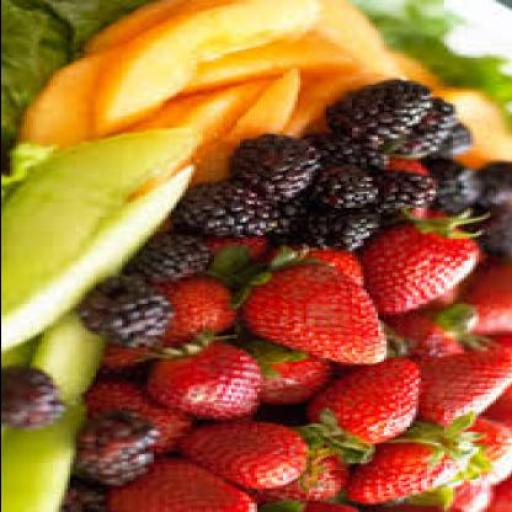biodegradable: (16, 0, 409, 187), (3, 123, 199, 313), (3, 162, 199, 350), (91, 0, 325, 135), (216, 246, 391, 362), (379, 0, 510, 130), (362, 209, 486, 315), (192, 67, 304, 183), (170, 29, 357, 98), (348, 410, 486, 503), (104, 274, 242, 366), (17, 48, 116, 172), (124, 77, 274, 154), (3, 0, 72, 165), (3, 392, 92, 510), (150, 331, 268, 420), (176, 423, 320, 485), (417, 333, 511, 426), (106, 457, 262, 510), (92, 378, 198, 453), (230, 335, 340, 401), (210, 239, 319, 305), (80, 0, 213, 54), (78, 274, 176, 346), (28, 313, 110, 396), (72, 412, 161, 484), (391, 300, 500, 357), (248, 446, 360, 500), (334, 78, 432, 139), (178, 182, 284, 233), (443, 86, 511, 165), (236, 134, 313, 202), (34, 1, 152, 45), (368, 474, 497, 511), (2, 364, 69, 429), (293, 202, 386, 247), (279, 245, 371, 290), (391, 98, 457, 157), (463, 255, 511, 335), (127, 234, 213, 278), (218, 232, 296, 276), (463, 416, 511, 484), (392, 160, 446, 218), (478, 331, 510, 423), (311, 166, 382, 204), (316, 132, 392, 167), (429, 159, 481, 210), (377, 170, 437, 208), (474, 208, 511, 261), (426, 119, 475, 159), (474, 159, 511, 209), (403, 45, 443, 89), (416, 286, 466, 320), (276, 195, 308, 244), (256, 497, 368, 511), (3, 333, 46, 367), (60, 484, 112, 510), (480, 474, 511, 512)
